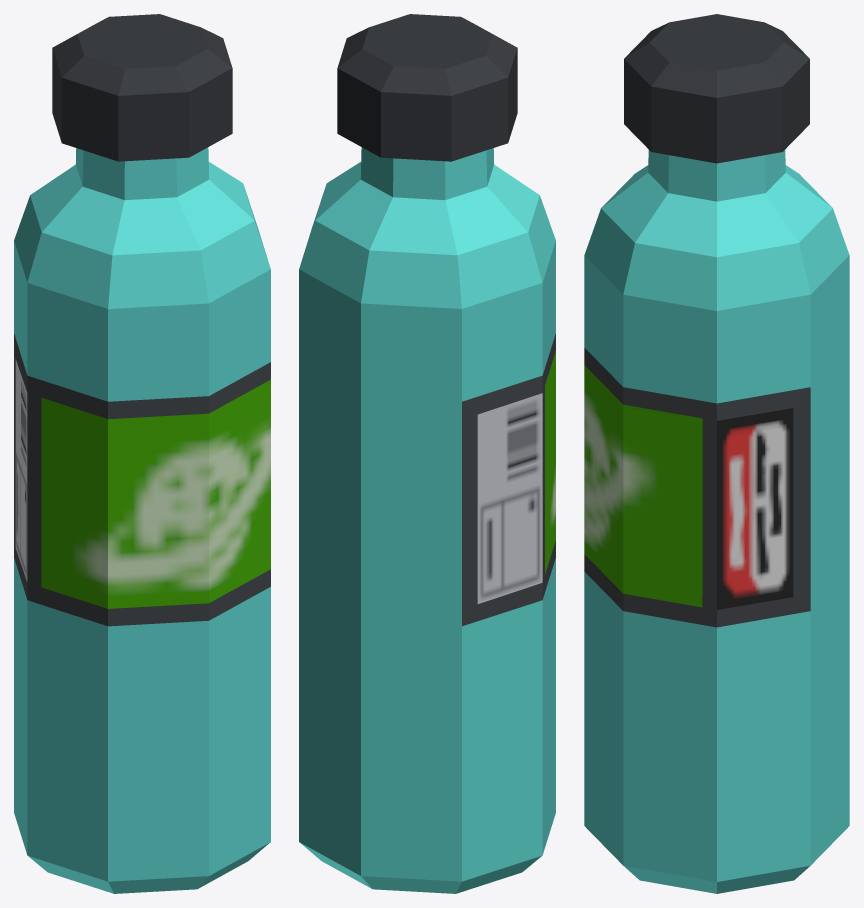
Rendered from SM_Prop_Drink_Syncola_02.fbx.
3 views of the same model, side by side, from view 1: azimuth 30°, elevation 25°; view 2: azimuth 150°, elevation 25°; view 3: azimuth 270°, elevation 25° (orthographic).
Visible parts, largest first — view 1: SM_Prop_Drink_Syncola_02; view 2: SM_Prop_Drink_Syncola_02; view 3: SM_Prop_Drink_Syncola_02.
Boxes of the visible parts, left/top/right/bottom form: SM_Prop_Drink_Syncola_02: left=14, top=14, right=270, bottom=893; SM_Prop_Drink_Syncola_02: left=299, top=14, right=555, bottom=893; SM_Prop_Drink_Syncola_02: left=584, top=14, right=849, bottom=893.
Bounding box in the file's own units: 12.32 × 41.3 × 12.32.
